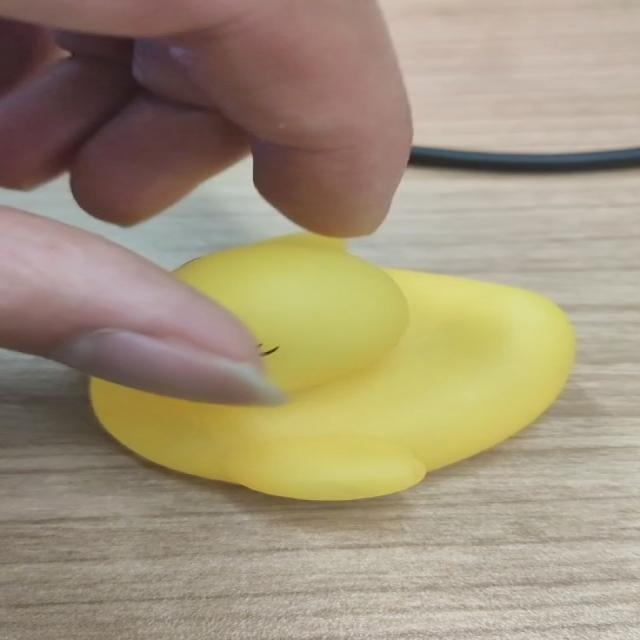rubber-duck: (90, 233, 572, 498)
